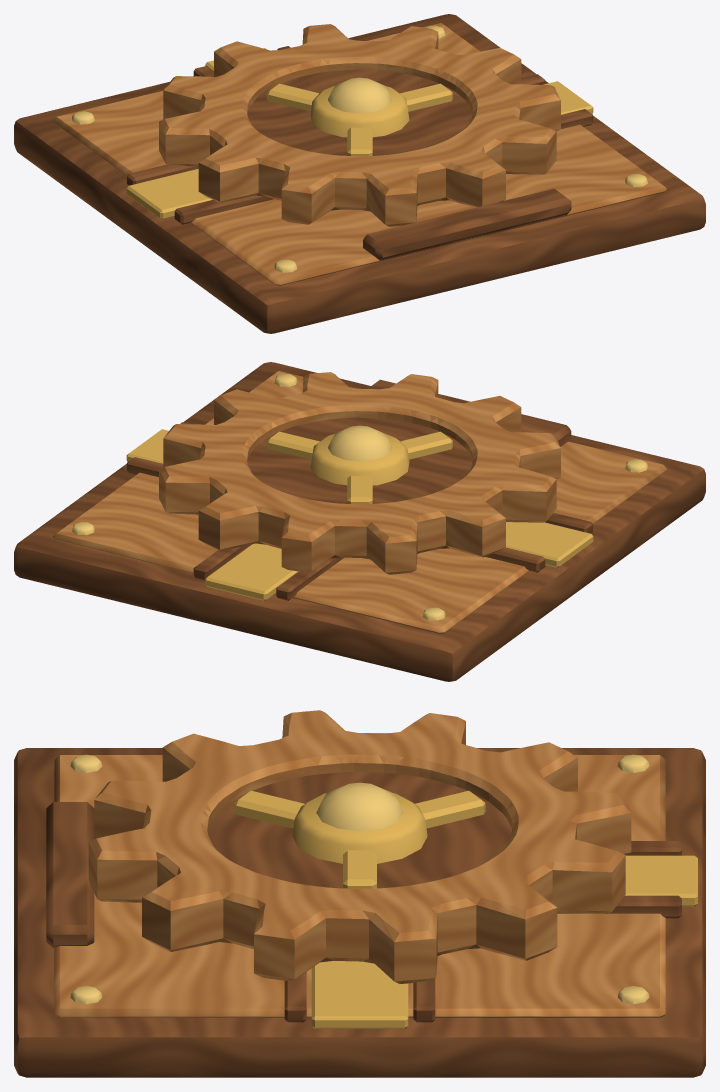
File: engrenage_t.glb
3 views of the same model, one above another, from view 1: azimuth 30°, elevation 25°; view 2: azimuth 150°, elevation 25°; view 3: azimuth 270°, elevation 25° (orthographic). The views are drawn at different scales.
Parts seen in each view (by area): view 1: engrenage_t_Socle, Rotor; view 2: engrenage_t_Socle, Rotor; view 3: engrenage_t_Socle, Rotor.
Boxes of the visible parts, x1=… form: engrenage_t_Socle: x1=14, y1=14, x2=705, y2=333; Rotor: x1=159, y1=24, x2=560, y2=226; engrenage_t_Socle: x1=14, y1=362, x2=705, y2=681; Rotor: x1=159, y1=372, x2=560, y2=574; engrenage_t_Socle: x1=14, y1=733, x2=705, y2=1077; Rotor: x1=88, y1=710, x2=631, y2=983.
Bounding box in the file's own units: 1.72 × 0.406 × 1.72.
Materials: 5 (2 with a texture image).
